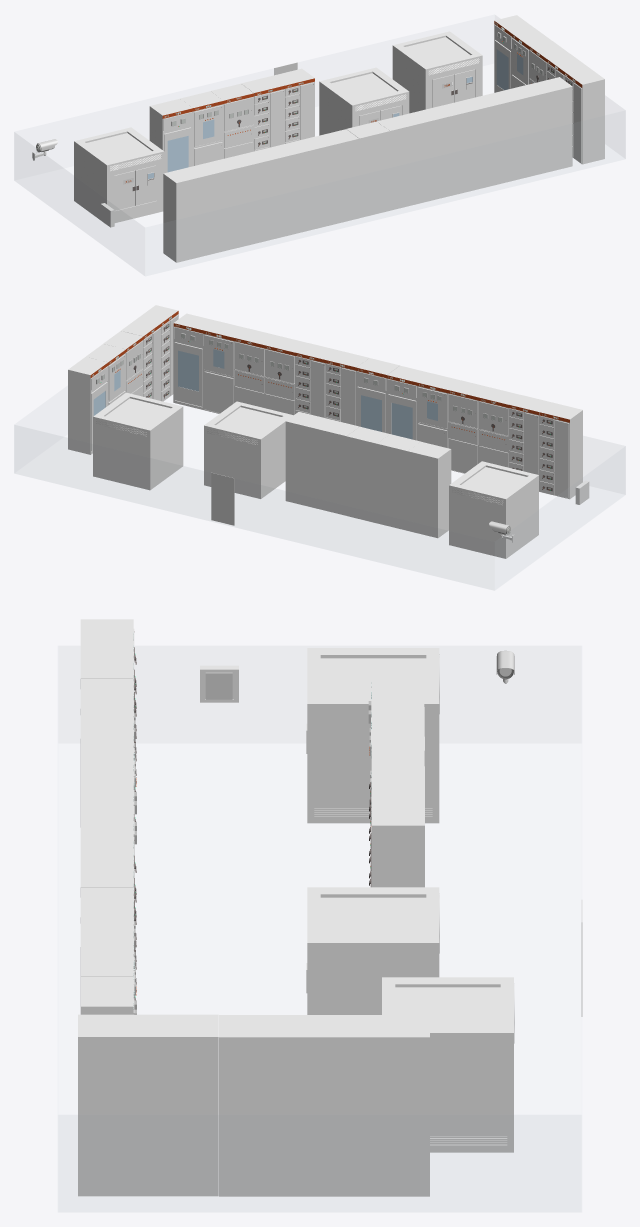
Rendered from pr8_mini.gltf.
The picture shows the model from 3 angles, top to bottom: view 1: azimuth 30°, elevation 25°; view 2: azimuth 150°, elevation 25°; view 3: azimuth 270°, elevation 25°; orthographic projection. The views are drawn at different scales.
Visible parts, largest first — view 1: 外墙, 变压器C, 变压器A, 变压器B, 2037001803_ele_馈电柜, 2037000601_ele_馈电柜, 计量柜.3, 联络柜.1, 电容柜.2, 2037001801_ele_馈电柜, 电容柜.3, 2037001802_ele_馈电柜 (+15 smaller); view 2: 外墙, 变压器A, 变压器C, 变压器B, 2037001803_ele_馈电柜, 计量柜.1, 计量柜.4, 3005100608_ele_馈电柜, 3003023585_ele_受电柜, 电容柜.1, 3005100607_ele_馈电柜, 计量柜.2 (+16 smaller); view 3: 外墙, 变压器A, 变压器C, 变压器B, 2037000602_ele_馈电柜, 2037000601_ele_馈电柜, 计量柜.4, 2037000604_ele_受电柜, 电容柜.5, 3005100607_ele_馈电柜, 计量柜.2, 2037001801_ele_馈电柜 (+16 smaller).
Boxes of the visible parts, left/top/right/bottom form: 外墙: left=14, top=110, right=625, bottom=275; 变压器C: left=74, top=127, right=164, bottom=222; 变压器A: left=392, top=31, right=482, bottom=113; 变压器B: left=319, top=67, right=409, bottom=135; 2037001803_ele_馈电柜: left=163, top=166, right=206, bottom=262; 2037000601_ele_馈电柜: left=564, top=66, right=604, bottom=164; 计量柜.3: left=316, top=129, right=359, bottom=225; 联络柜.1: left=346, top=121, right=389, bottom=218; 电容柜.2: left=468, top=92, right=511, bottom=188; 2037001801_ele_馈电柜: left=407, top=106, right=450, bottom=203; 电容柜.3: left=224, top=151, right=267, bottom=247; 2037001802_ele_馈电柜: left=194, top=159, right=237, bottom=255; 外墙: left=14, top=425, right=625, bottom=589; 变压器A: left=93, top=392, right=183, bottom=490; 变压器C: left=449, top=461, right=538, bottom=558; 变压器B: left=204, top=401, right=293, bottom=498; 2037001803_ele_馈电柜: left=539, top=402, right=582, bottom=499; 计量柜.1: left=407, top=441, right=451, bottom=538; 计量柜.4: left=68, top=357, right=108, bottom=454; 3005100608_ele_馈电柜: left=316, top=419, right=359, bottom=515; 3003023585_ele_受电柜: left=377, top=434, right=420, bottom=530; 电容柜.1: left=346, top=426, right=389, bottom=523; 3005100607_ele_馈电柜: left=285, top=412, right=328, bottom=508; 计量柜.2: left=173, top=313, right=216, bottom=409; 外墙: left=58, top=1115, right=581, bottom=1211; 变压器A: left=382, top=977, right=514, bottom=1152; 变压器C: left=306, top=648, right=439, bottom=823; 变压器B: left=306, top=887, right=439, bottom=1014; 2037000602_ele_馈电柜: left=148, top=1014, right=218, bottom=1196; 2037000601_ele_馈电柜: left=78, top=1014, right=148, bottom=1196; 计量柜.4: left=359, top=1015, right=429, bottom=1196; 2037000604_ele_受电柜: left=289, top=1015, right=359, bottom=1196; 电容柜.5: left=219, top=1015, right=289, bottom=1196; 3005100607_ele_馈电柜: left=369, top=796, right=424, bottom=887; 计量柜.2: left=81, top=977, right=136, bottom=1014; 2037001801_ele_馈电柜: left=80, top=857, right=136, bottom=999.
Bounding box in the file's own units: 1263 × 202 × 597.
